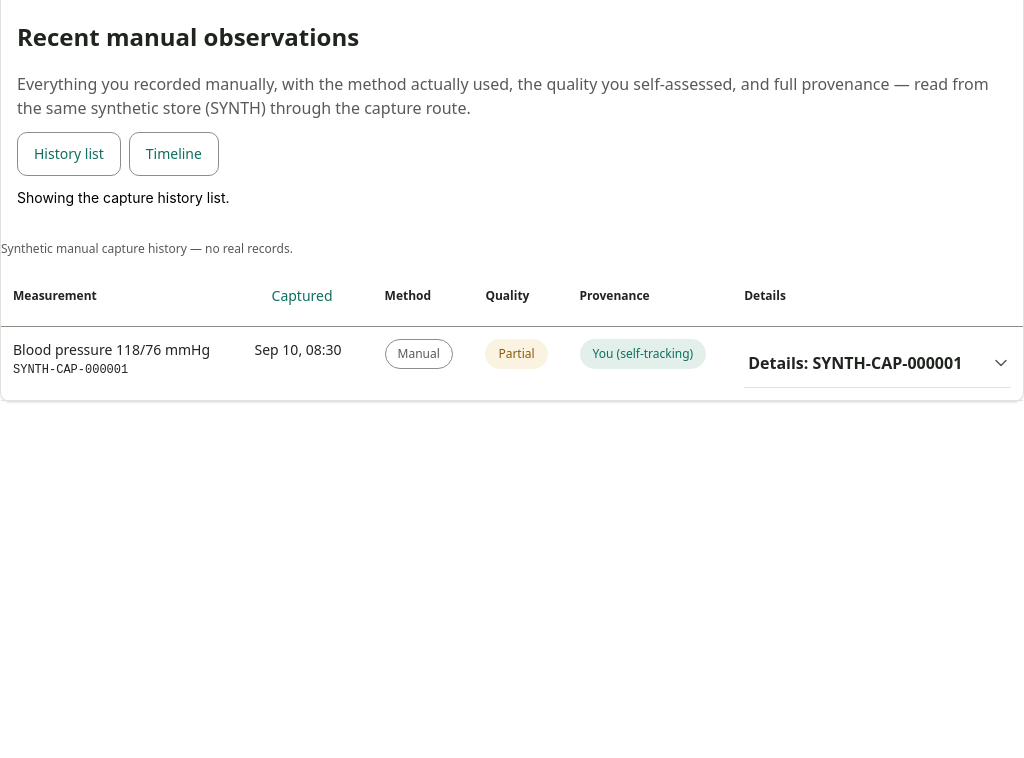
Test: CaptureHistory › reveals the provenance drawer (method actually used, quality, actor) per row
Step 1. Click the button "Details: SYNTH-CAP-000001" → (878, 363), box [744,339,1011,387]
(page scrolled)
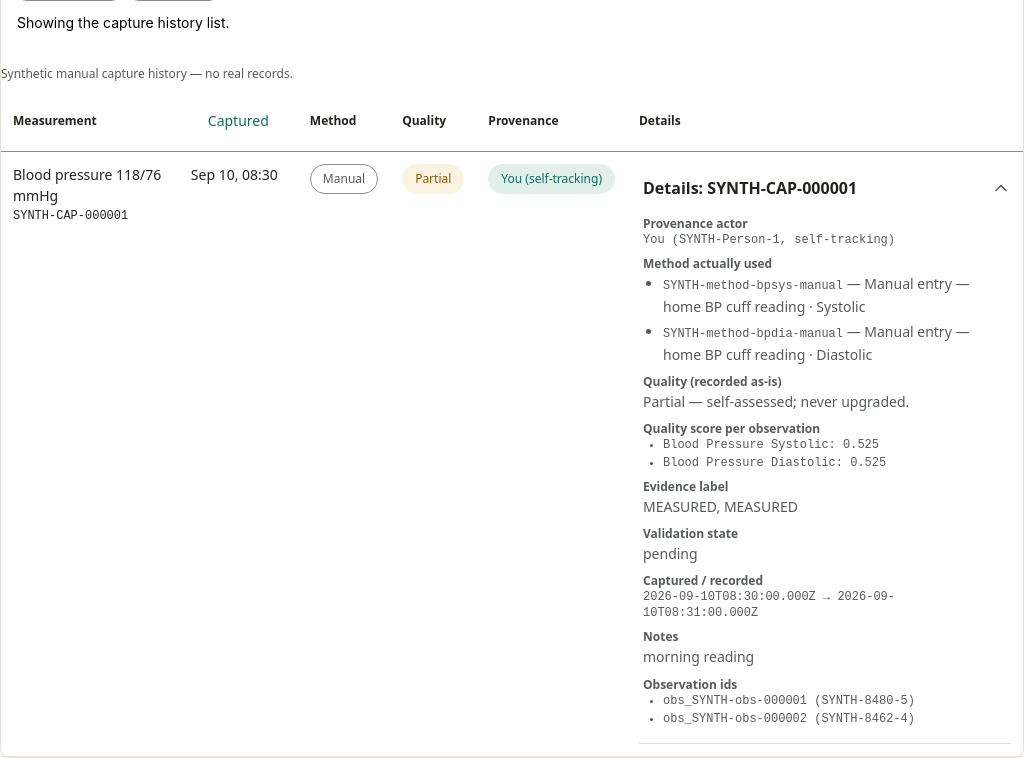
Now the button "Details: SYNTH-CAP-000001" is expanded, box [639,164,1011,212]
Now the text "Provenance actor" is shown, box [643,215,748,232]
Now the text "You (SYNTH-Person-1, self-tracking)" is shown, box [643,233,895,247]
